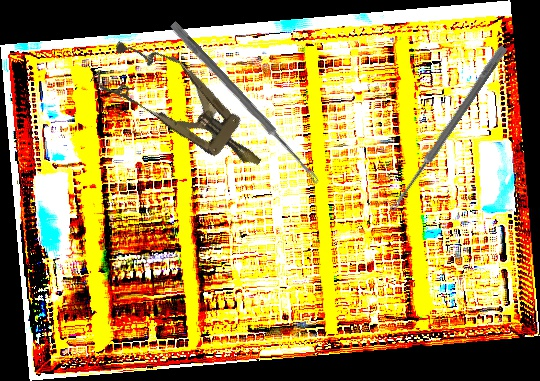Speculum: (88, 25, 281, 192)
Surgical Spoon: (168, 20, 323, 186), (388, 44, 508, 214)
